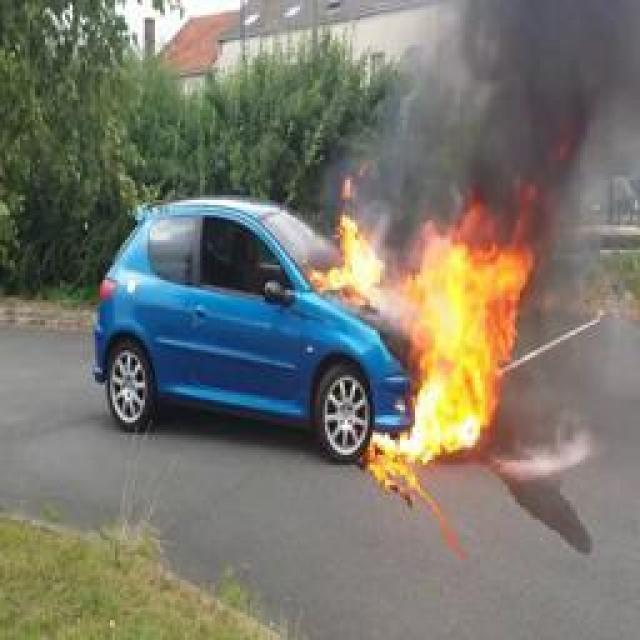Fire: (307, 180, 535, 462)
